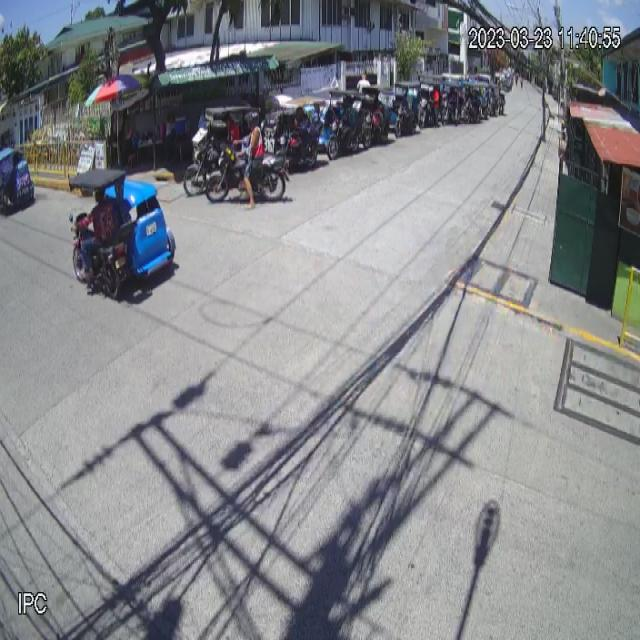Tricycle: (68, 166, 177, 300)
